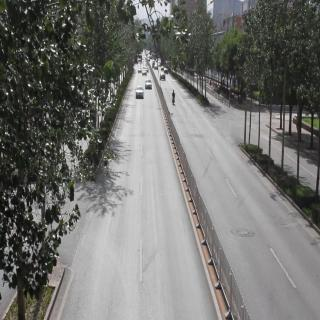Car: (143, 76, 158, 93), (135, 82, 144, 103), (159, 70, 168, 86)
